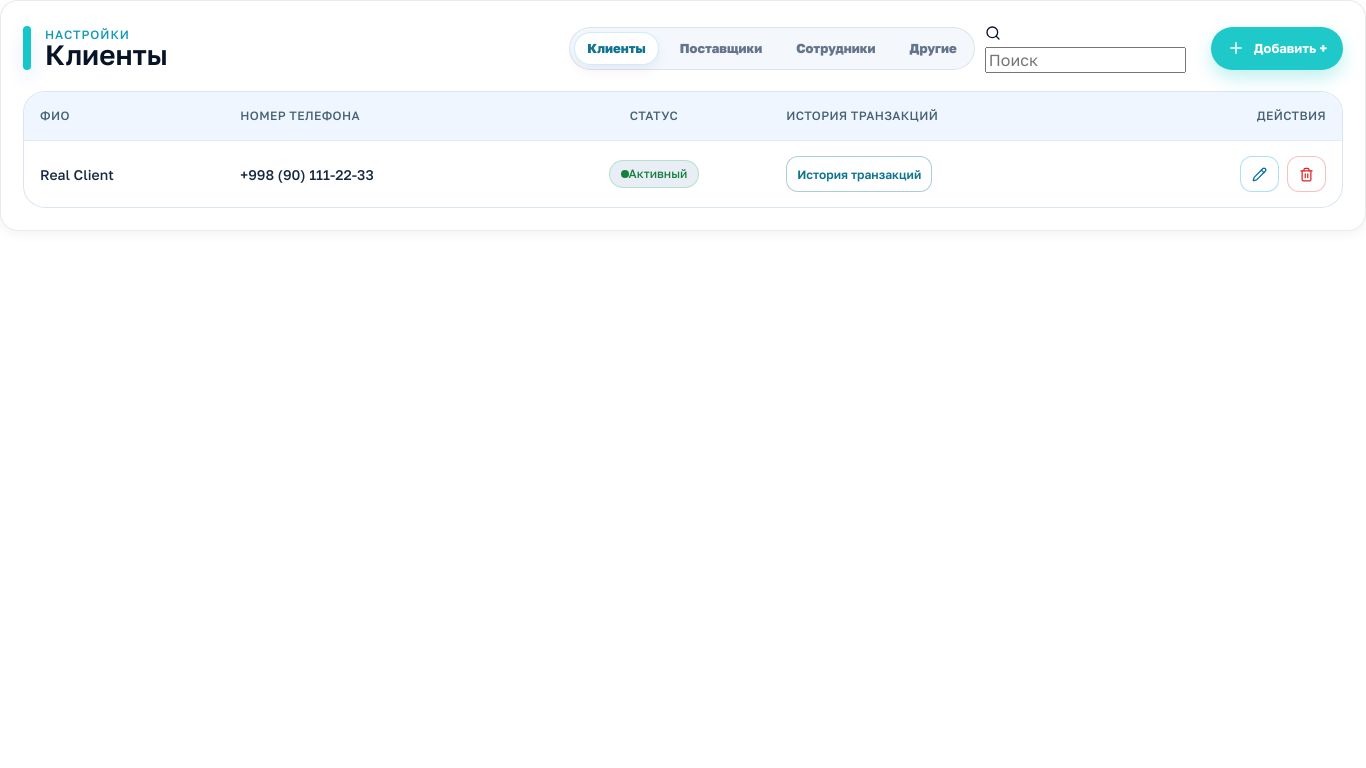
SettingsClientsPage (counterparties V1) › opens Edit in the SAME centered modal shell
Expected: the text "Real Client" is shown, 24,140 -> 224,207
Click the button named "Редактировать".
click(1260, 174)  # box 1240,156 -> 1279,192
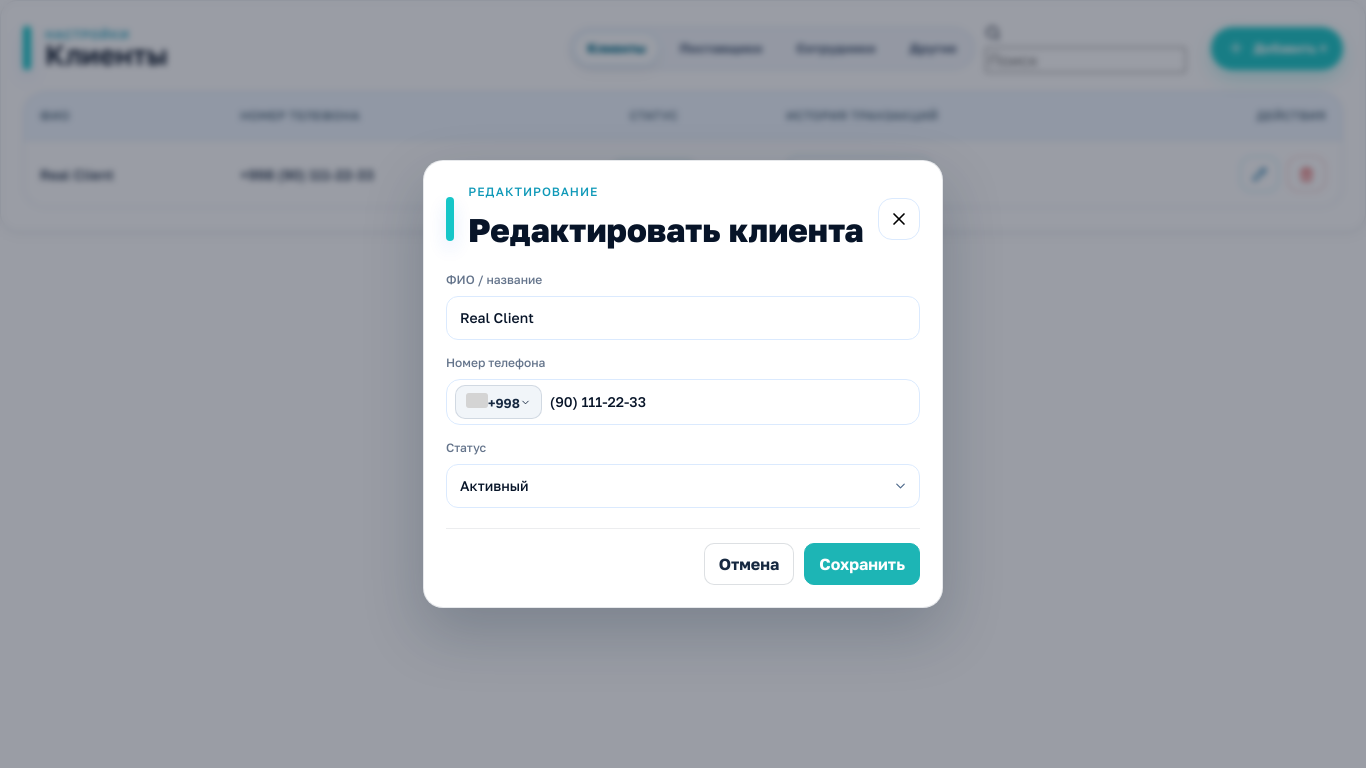
Expected: the element with class "settings-modal-overlay" is shown
Expected: the text "Редактирование" is shown, 468,184 -> 598,199
Expected: the field labelled "ФИО / название" holds "Real Client", 446,296 -> 920,340
